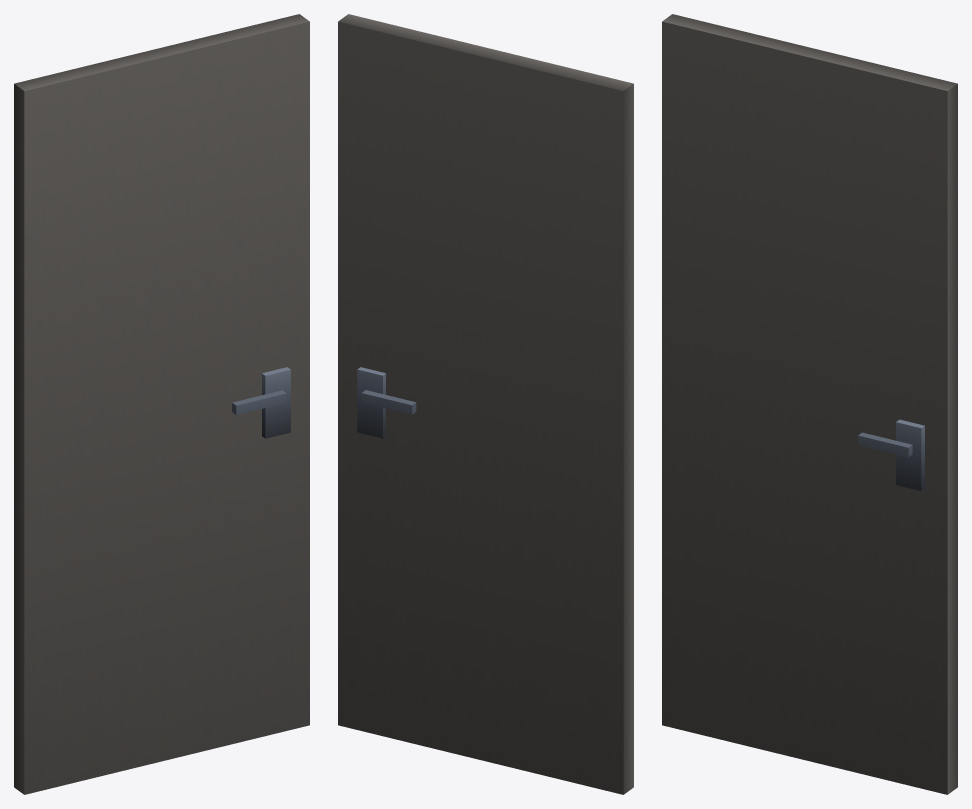
Rendered from Door_A.fbx.
3 views of the same model, side by side, from view 1: azimuth 30°, elevation 25°; view 2: azimuth 150°, elevation 25°; view 3: azimuth 330°, elevation 25° (orthographic).
Parts seen in each view (by area): view 1: Door_A; view 2: Door_A; view 3: Door_A.
Boxes of the visible parts, <box> form: Door_A: <box>14,14,309,794</box>; Door_A: <box>338,14,633,794</box>; Door_A: <box>662,14,957,794</box>.
Bounding box in the file's own units: 80 × 189 × 12.49.
